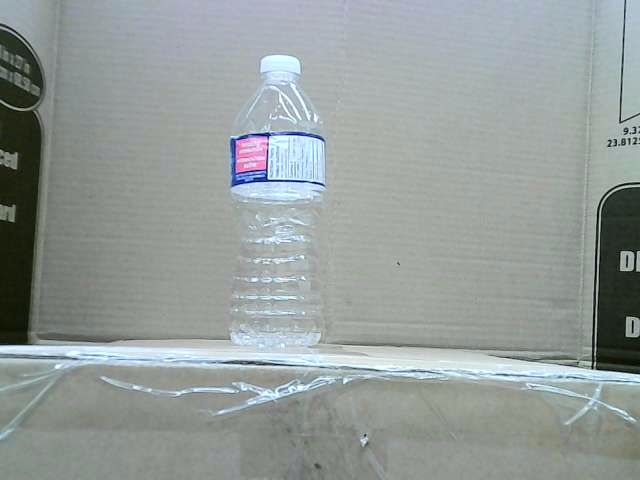WaterBottle: (228, 55, 326, 345)
